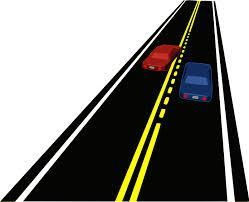car: (177, 60, 215, 106), (139, 40, 183, 74)
